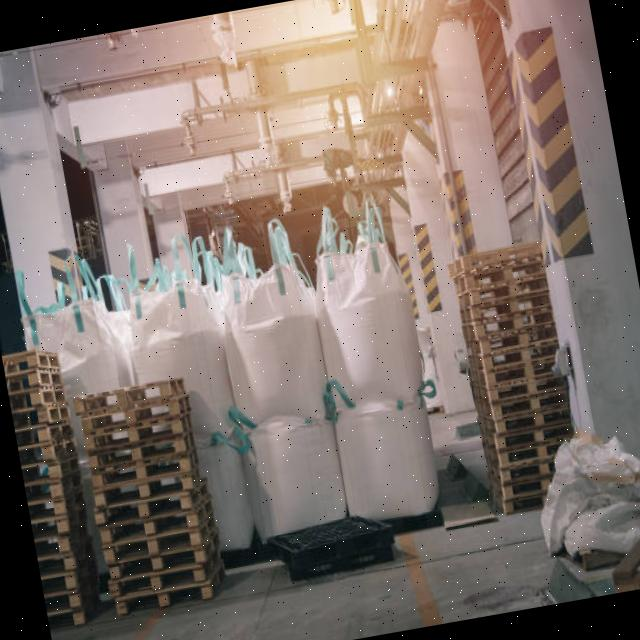Wooden-Pallets: (73, 363, 184, 421), (84, 421, 195, 476), (101, 538, 208, 584), (90, 486, 194, 532), (112, 575, 216, 616), (90, 457, 192, 493), (466, 257, 548, 297)
